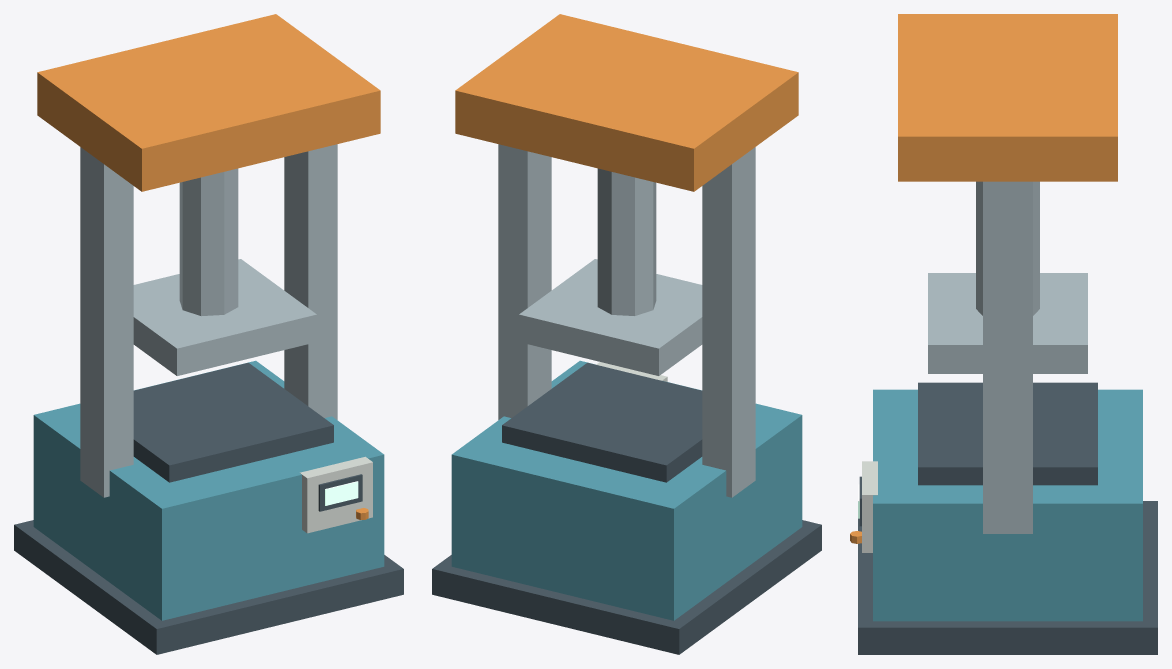
Rendered from hydraulic-forming-press.glb.
The picture shows the model from 3 angles, left to right: view 1: azimuth 30°, elevation 25°; view 2: azimuth 150°, elevation 25°; view 3: azimuth 270°, elevation 25°; orthographic projection. The views are drawn at different scales.
Parts seen in each view (by area): view 1: steel, blue, orange, dark, cream, light; view 2: steel, blue, orange, dark; view 3: blue, orange, steel, dark, cream.
Part boxes in pixels (bbox=[...]): steel: bbox=[80, 144, 337, 497]; blue: bbox=[33, 360, 384, 620]; orange: bbox=[37, 14, 380, 519]; dark: bbox=[14, 362, 403, 654]; cream: bbox=[300, 456, 372, 533]; light: bbox=[325, 481, 358, 505]; steel: bbox=[498, 144, 755, 497]; blue: bbox=[451, 360, 802, 620]; orange: bbox=[455, 14, 798, 191]; dark: bbox=[432, 362, 821, 654]; blue: bbox=[873, 389, 1142, 621]; orange: bbox=[850, 14, 1117, 543]; steel: bbox=[928, 181, 1087, 533]; dark: bbox=[858, 382, 1157, 654]; cream: bbox=[862, 461, 877, 552].
Bounding box in the file's own units: 1.5 × 2.85 × 1.54.
